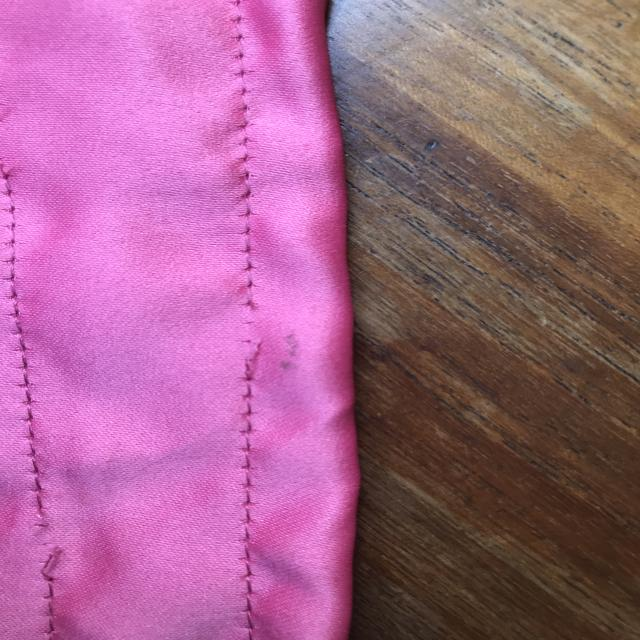broken: (19, 496, 88, 596), (233, 275, 275, 385)
